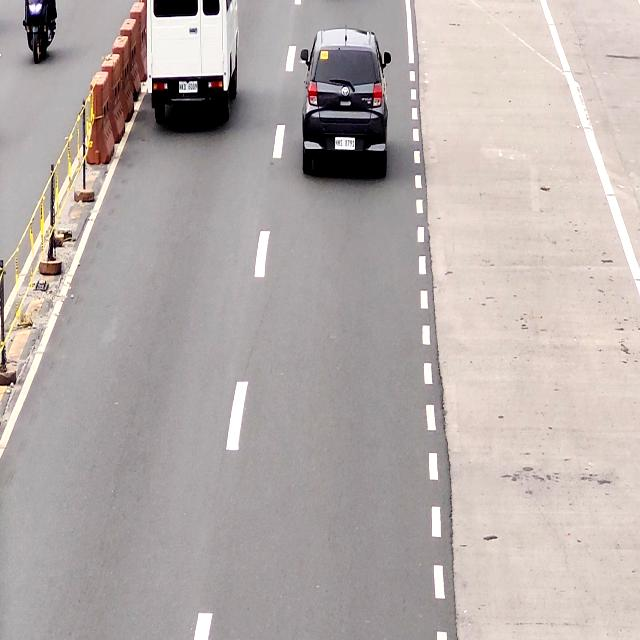Car: (302, 30, 384, 175), (146, 0, 239, 121)
License-Plate: (175, 78, 201, 95), (333, 136, 357, 154)
